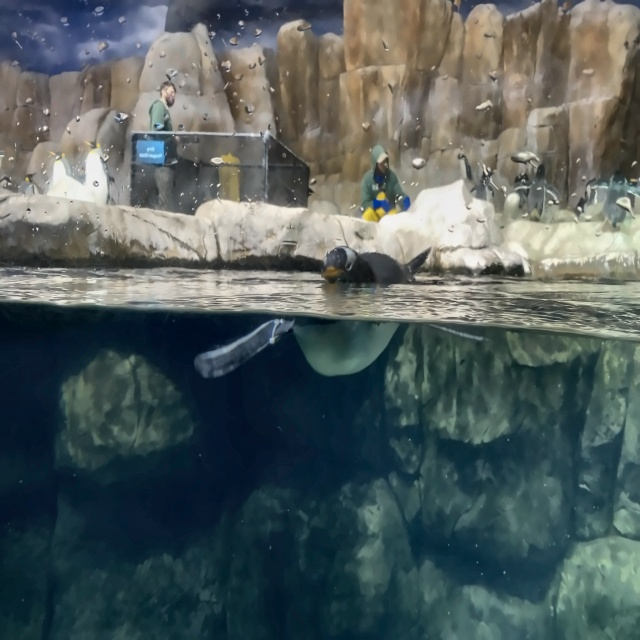penguin: (191, 247, 486, 387), (587, 169, 639, 235), (512, 161, 562, 225), (81, 136, 118, 210), (44, 146, 71, 202), (478, 164, 507, 209), (17, 169, 42, 201), (456, 151, 475, 189)
